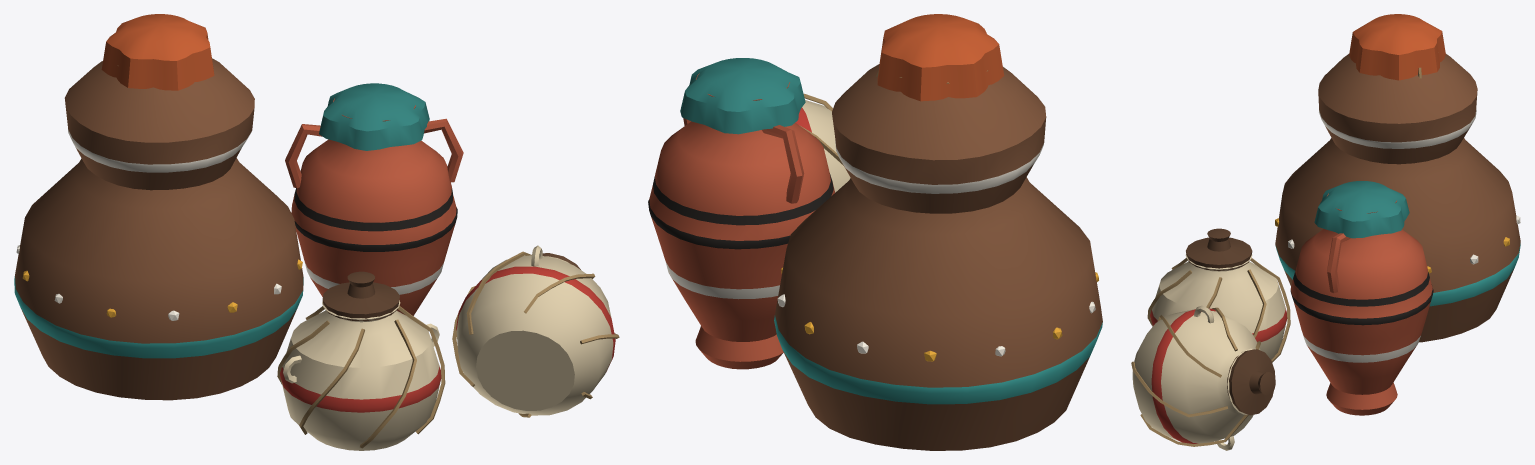
The model's file is deco_gourd_jar_group.fbx.
3 views of the same model, side by side, from view 1: azimuth 30°, elevation 25°; view 2: azimuth 150°, elevation 25°; view 3: azimuth 270°, elevation 25° (orthographic). The views are drawn at different scales.
Visible parts, largest first — view 1: GourdJar_Group_Large_Body, GourdJar_Group_Medium_Body, GourdJar_Group_SmallTipped_Body, GourdJar_Group_Small_Body, GourdJar_Group_Large_Lid, GourdJar_Group_Medium_Lid, GourdJar_Group_Small_Lid, GourdJar_Group_Small_Net, GourdJar_Group_SmallTipped_Net; view 2: GourdJar_Group_Large_Body, GourdJar_Group_Medium_Body, GourdJar_Group_Large_Lid, GourdJar_Group_Medium_Lid, GourdJar_Group_SmallTipped_Body; view 3: GourdJar_Group_Large_Body, GourdJar_Group_Medium_Body, GourdJar_Group_SmallTipped_Body, GourdJar_Group_Small_Body, GourdJar_Group_Large_Lid, GourdJar_Group_Medium_Lid, GourdJar_Group_SmallTipped_Lid, GourdJar_Group_Small_Lid, GourdJar_Group_SmallTipped_Net, GourdJar_Group_Small_Net.
Boxes of the visible parts, left/top/right/bottom form: GourdJar_Group_Large_Body: left=14, top=58, right=303, bottom=400; GourdJar_Group_Medium_Body: left=285, top=98, right=463, bottom=315; GourdJar_Group_SmallTipped_Body: left=456, top=245, right=615, bottom=415; GourdJar_Group_Small_Body: left=280, top=300, right=441, bottom=450; GourdJar_Group_Large_Lid: left=101, top=14, right=214, bottom=90; GourdJar_Group_Medium_Lid: left=319, top=83, right=429, bottom=150; GourdJar_Group_Small_Lid: left=322, top=271, right=399, bottom=321; GourdJar_Group_Small_Net: left=277, top=306, right=445, bottom=448; GourdJar_Group_SmallTipped_Net: left=452, top=251, right=619, bottom=417; GourdJar_Group_Large_Body: left=774, top=64, right=1102, bottom=450; GourdJar_Group_Medium_Body: left=648, top=73, right=835, bottom=369; GourdJar_Group_Large_Lid: left=875, top=14, right=1004, bottom=101; GourdJar_Group_Medium_Lid: left=680, top=58, right=805, bottom=134; GourdJar_Group_SmallTipped_Body: left=795, top=100, right=850, bottom=192; GourdJar_Group_Large_Body: left=1275, top=54, right=1520, bottom=342; GourdJar_Group_Medium_Body: left=1290, top=193, right=1433, bottom=415; GourdJar_Group_SmallTipped_Body: left=1132, top=305, right=1260, bottom=450; GourdJar_Group_Small_Body: left=1150, top=253, right=1287, bottom=359; GourdJar_Group_Large_Lid: left=1349, top=14, right=1445, bottom=80; GourdJar_Group_Medium_Lid: left=1314, top=181, right=1409, bottom=238; GourdJar_Group_SmallTipped_Lid: left=1227, top=349, right=1275, bottom=415; GourdJar_Group_Small_Lid: left=1186, top=228, right=1252, bottom=270; GourdJar_Group_SmallTipped_Net: left=1131, top=307, right=1260, bottom=446; GourdJar_Group_Small_Net: left=1147, top=258, right=1290, bottom=362.
Size of the model in its own units: 189 by 144 by 164.
